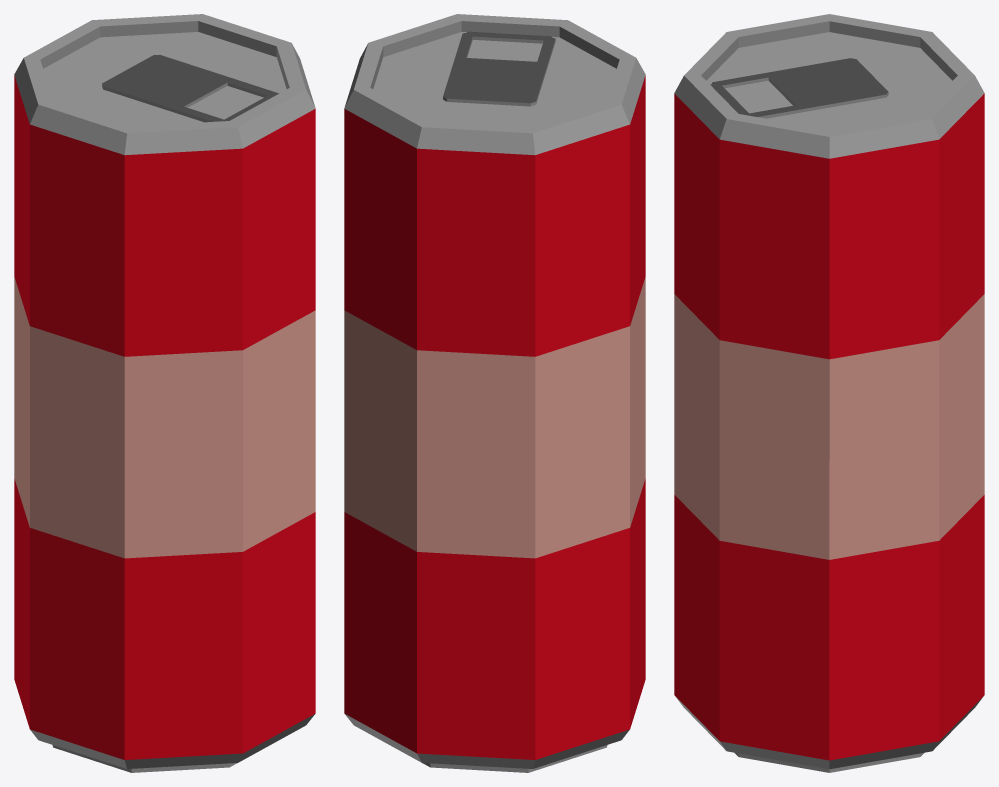
File: can.fbx
3 views of the same model, side by side, from view 1: azimuth 30°, elevation 25°; view 2: azimuth 150°, elevation 25°; view 3: azimuth 270°, elevation 25° (orthographic).
Parts seen in each view (by area): view 1: Cylinder; view 2: Cylinder; view 3: Cylinder.
Boxes of the visible parts, left/top/right/bottom form: Cylinder: left=14, top=14, right=315, bottom=772; Cylinder: left=344, top=14, right=645, bottom=772; Cylinder: left=674, top=14, right=984, bottom=772.
Size of the model in its own units: 227 by 518 by 227.
